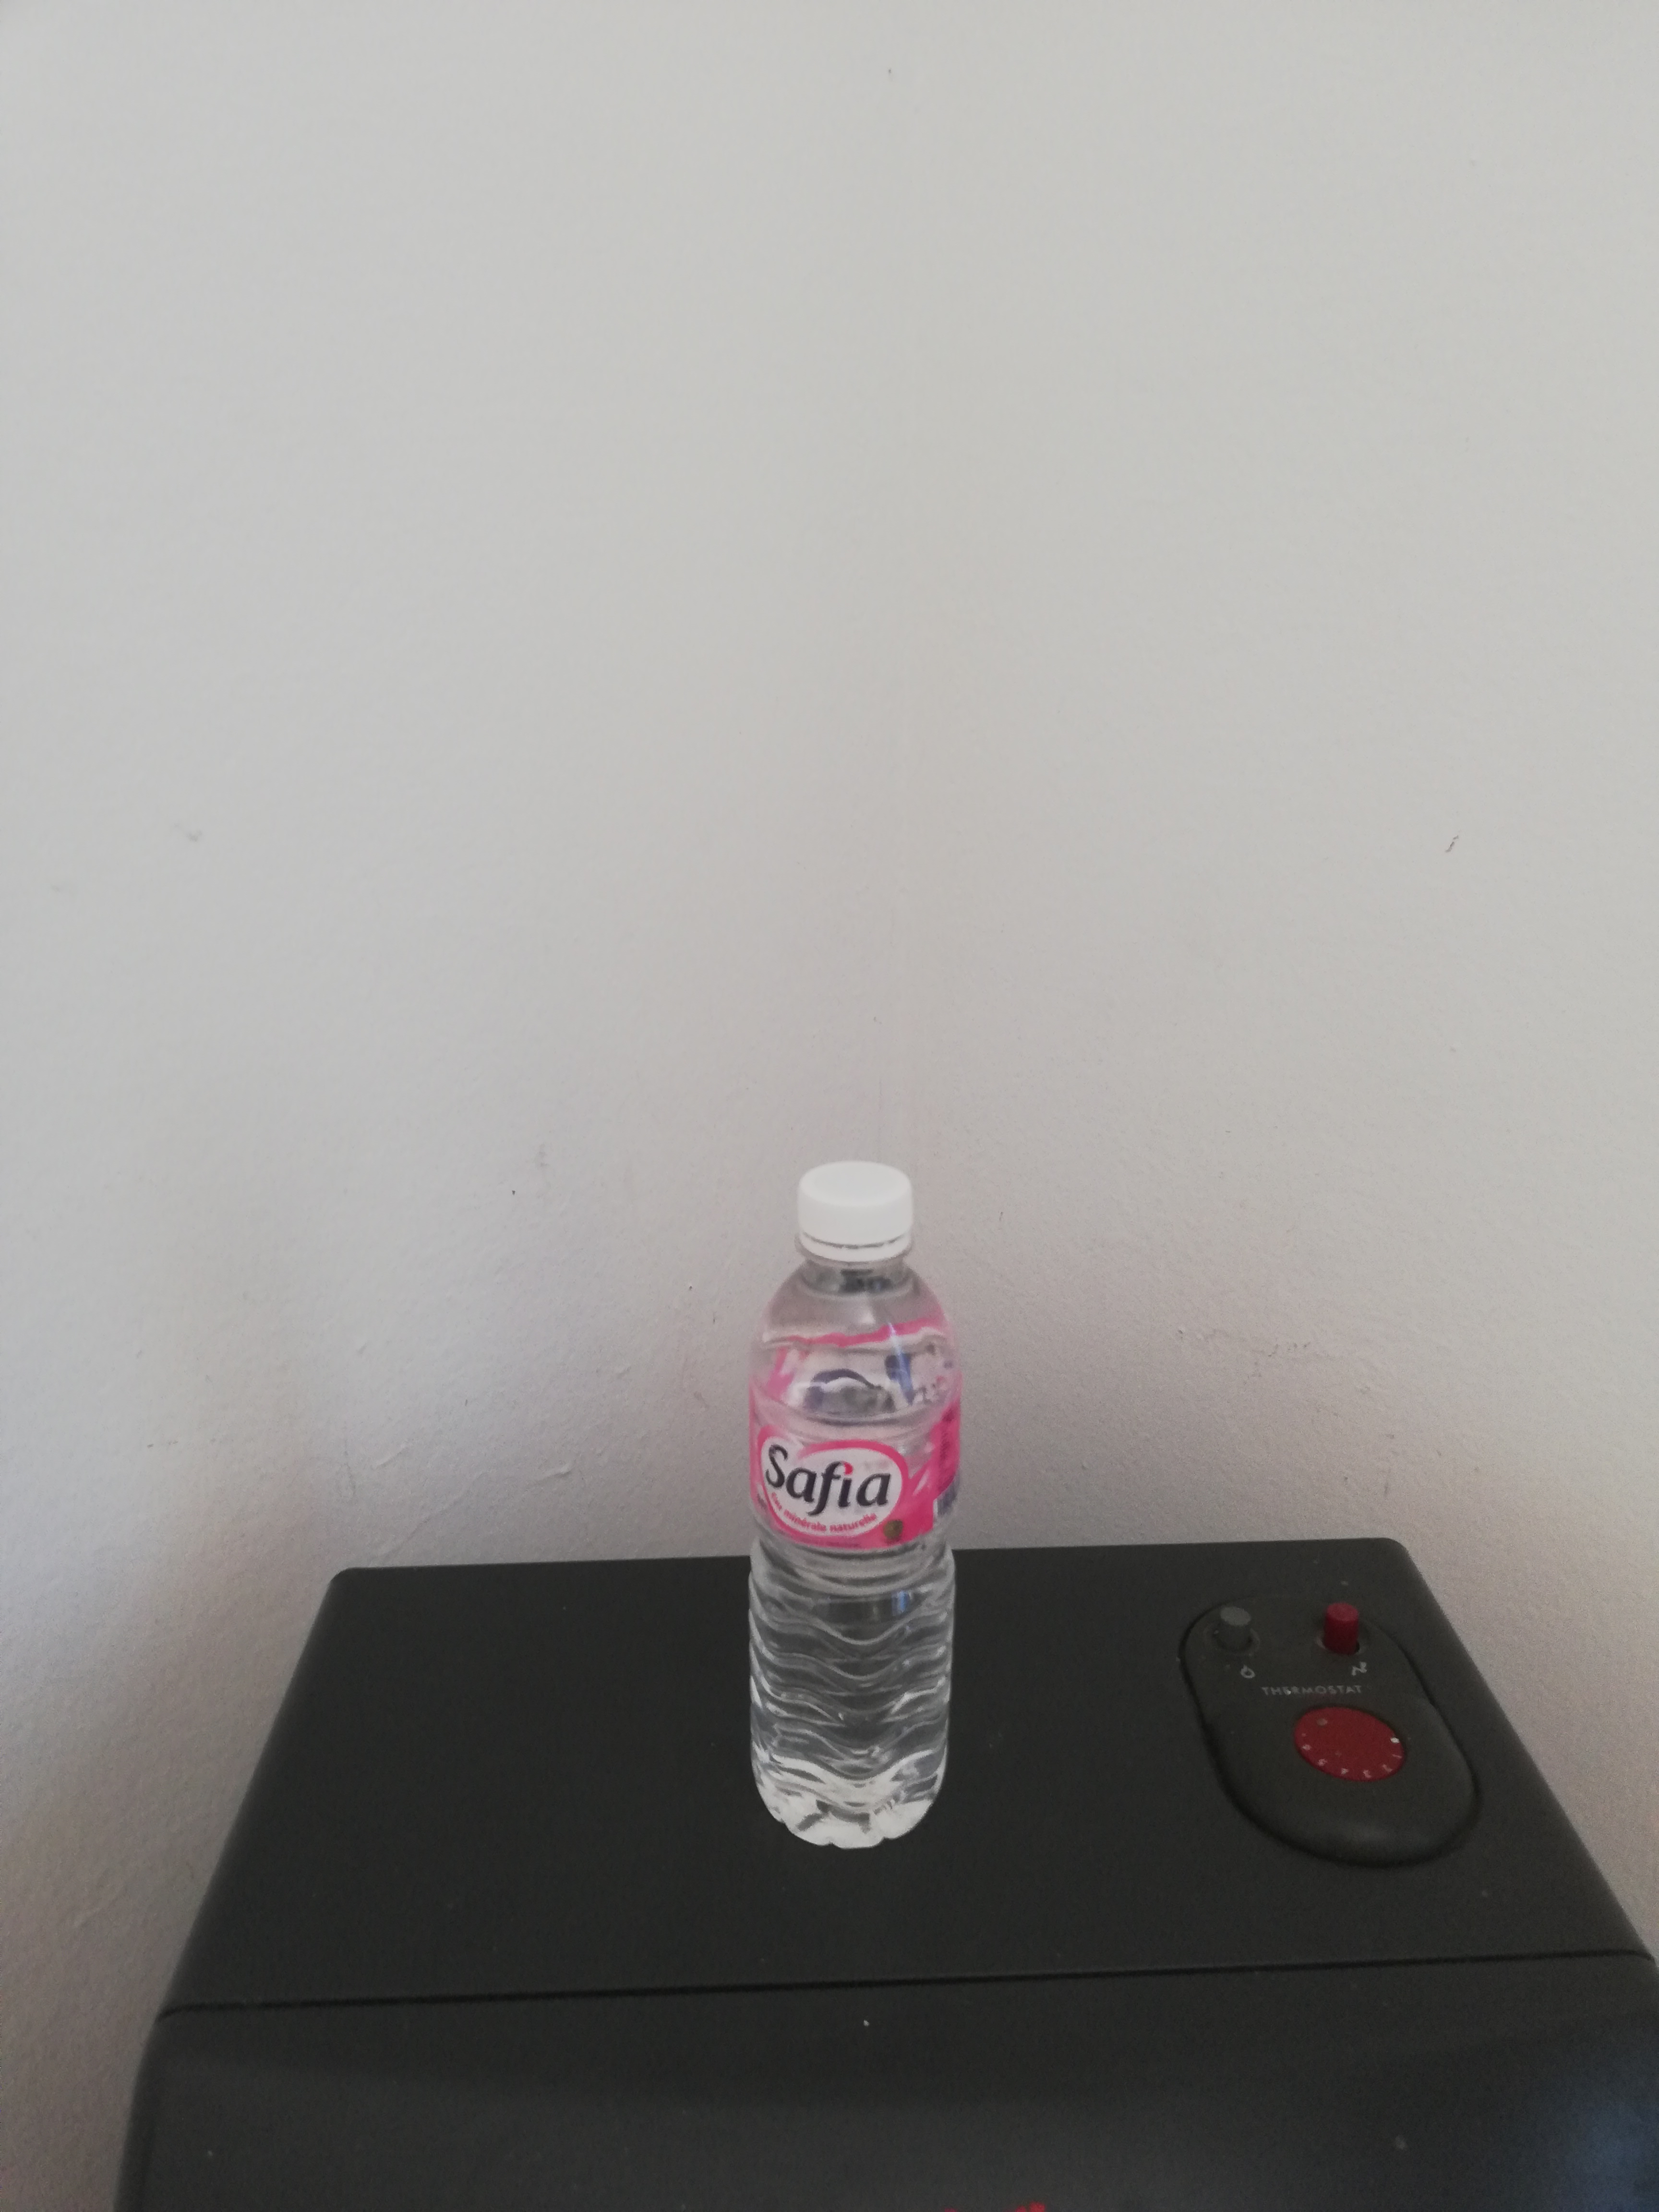Eau safia: (737, 1157, 957, 1853)
